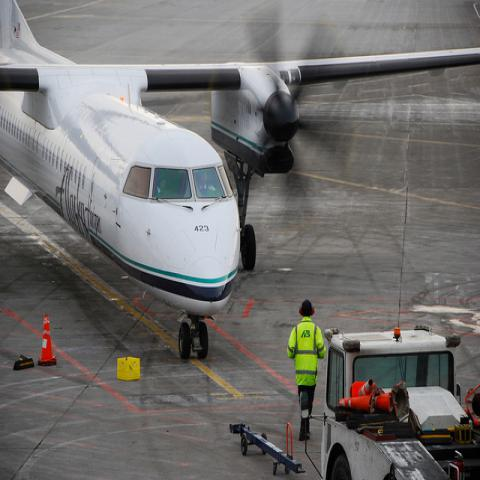truck: (299, 323, 479, 479)
